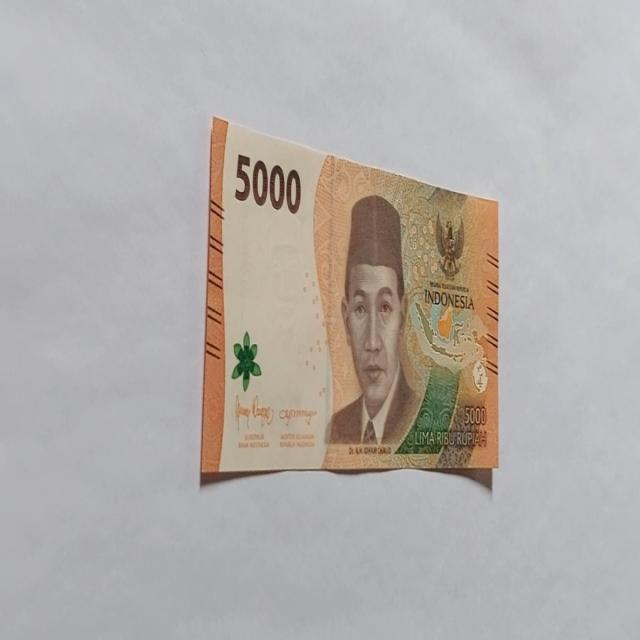lima ribu rupiah: (200, 116, 500, 487), (323, 193, 422, 452)
